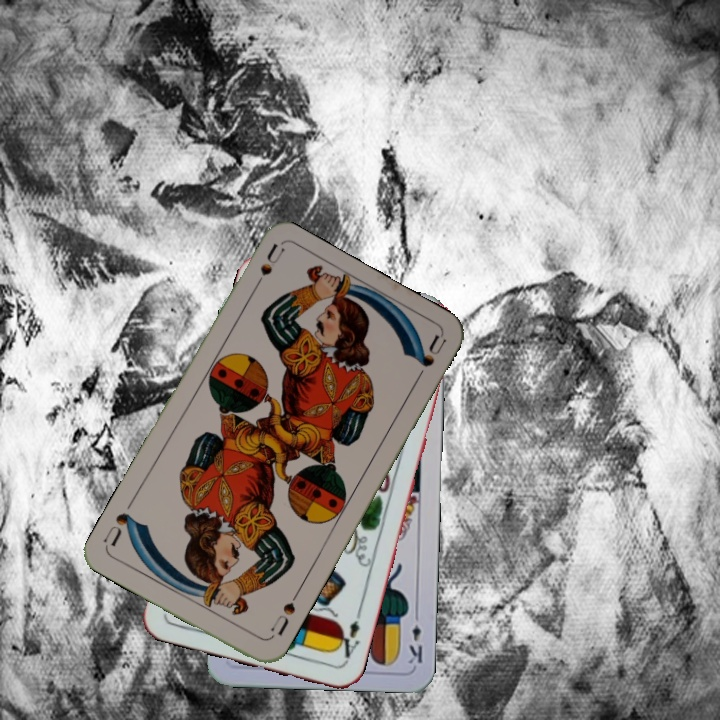EA: (332, 606, 364, 665)
EK: (404, 607, 425, 666)
SU: (247, 241, 287, 297), (266, 587, 302, 638)
